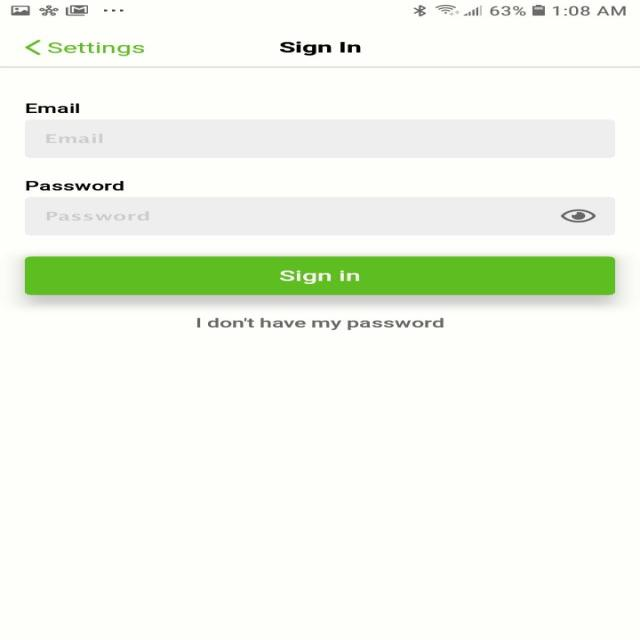EditText: (24, 196, 614, 236), (24, 119, 614, 158)
Icon: (559, 209, 596, 222), (24, 39, 41, 56)
Text: (196, 317, 444, 330), (47, 42, 144, 56), (279, 41, 360, 56), (45, 211, 148, 221), (26, 180, 124, 190), (46, 133, 103, 144), (26, 103, 80, 113)
TextButton: (24, 256, 614, 295)
